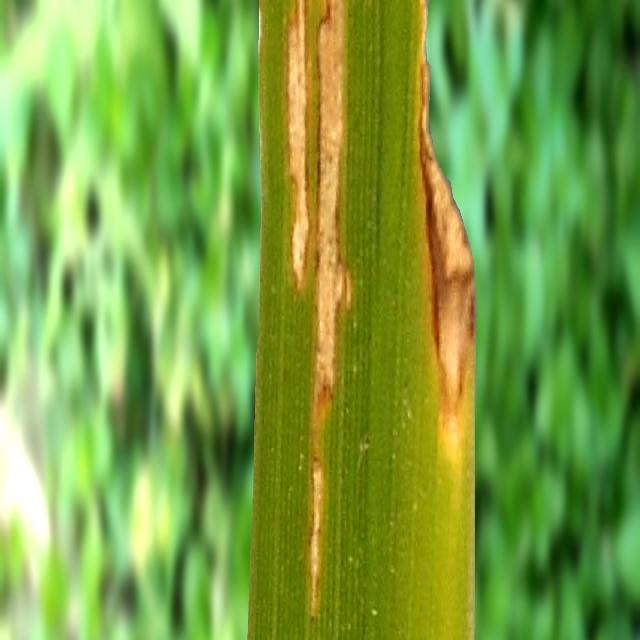BLS: (308, 0, 350, 616), (286, 0, 311, 293)
